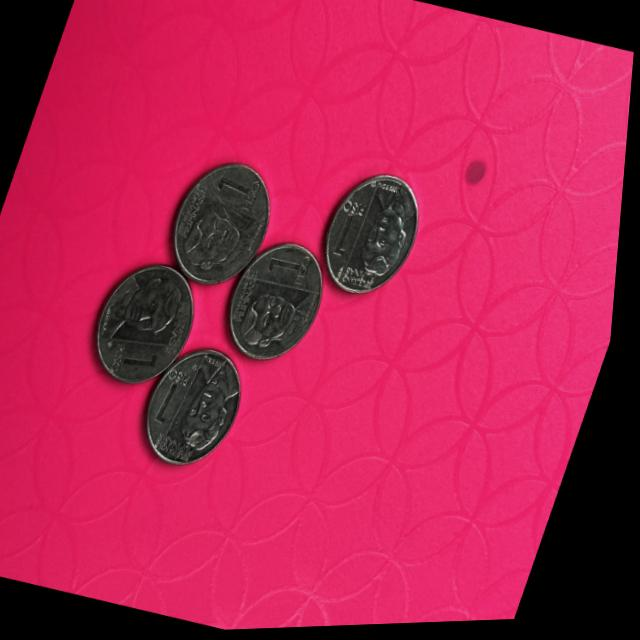1_New_Front: (323, 197, 378, 275), (151, 366, 206, 432), (103, 332, 171, 384), (200, 163, 271, 212), (262, 243, 319, 292)
